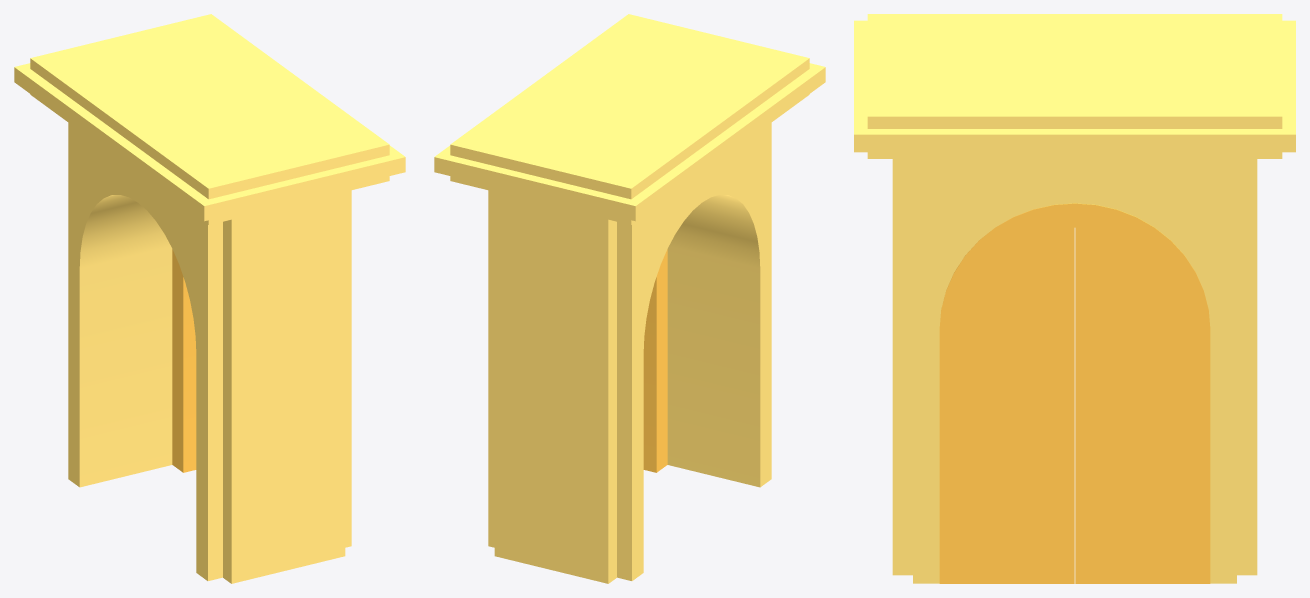
File: rock_kicking_heaven_gate_collision.glb
3 views of the same model, side by side, from view 1: azimuth 30°, elevation 25°; view 2: azimuth 150°, elevation 25°; view 3: azimuth 270°, elevation 25° (orthographic). The views are drawn at different scales.
Parts seen in each view (by area): view 1: heaven_gate_exterior-colonly, heaven_gates-colonly; view 2: heaven_gate_exterior-colonly, heaven_gates-colonly; view 3: heaven_gate_exterior-colonly, heaven_gates-colonly.
Part boxes in pixels (x1=…): heaven_gate_exterior-colonly: x1=14, y1=14, x2=405, y2=583; heaven_gates-colonly: x1=172, y1=249, x2=196, y2=472; heaven_gate_exterior-colonly: x1=434, y1=14, x2=825, y2=583; heaven_gates-colonly: x1=643, y1=249, x2=667, y2=472; heaven_gate_exterior-colonly: x1=854, y1=14, x2=1295, y2=583; heaven_gates-colonly: x1=939, y1=203, x2=1210, y2=583.
Bounding box in the file's own units: 50.13 × 97.8 × 81.97.
